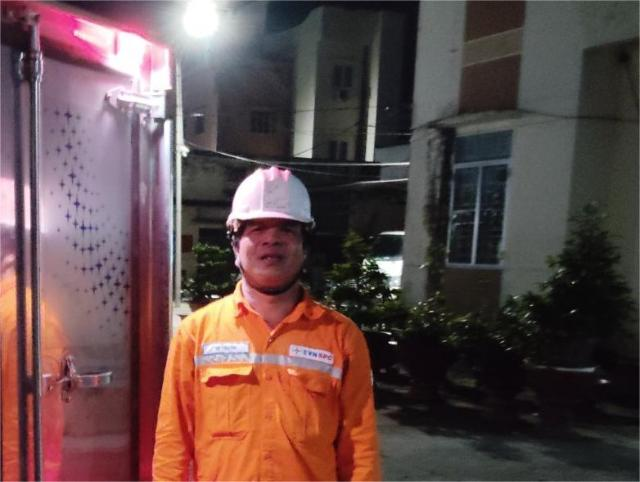helmet: (191, 138, 336, 257)
